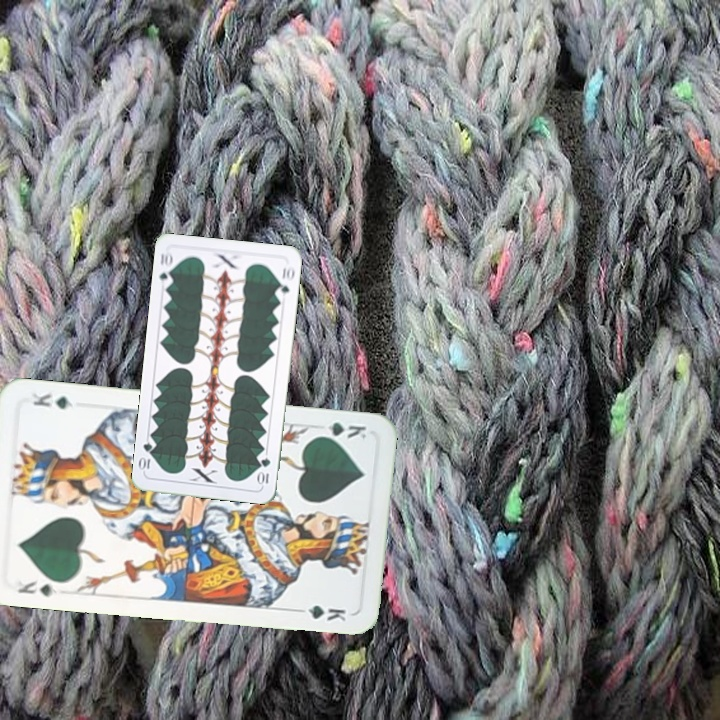G10: (155, 248, 176, 289), (255, 454, 273, 487)
GK: (312, 417, 369, 442), (13, 577, 61, 599)
